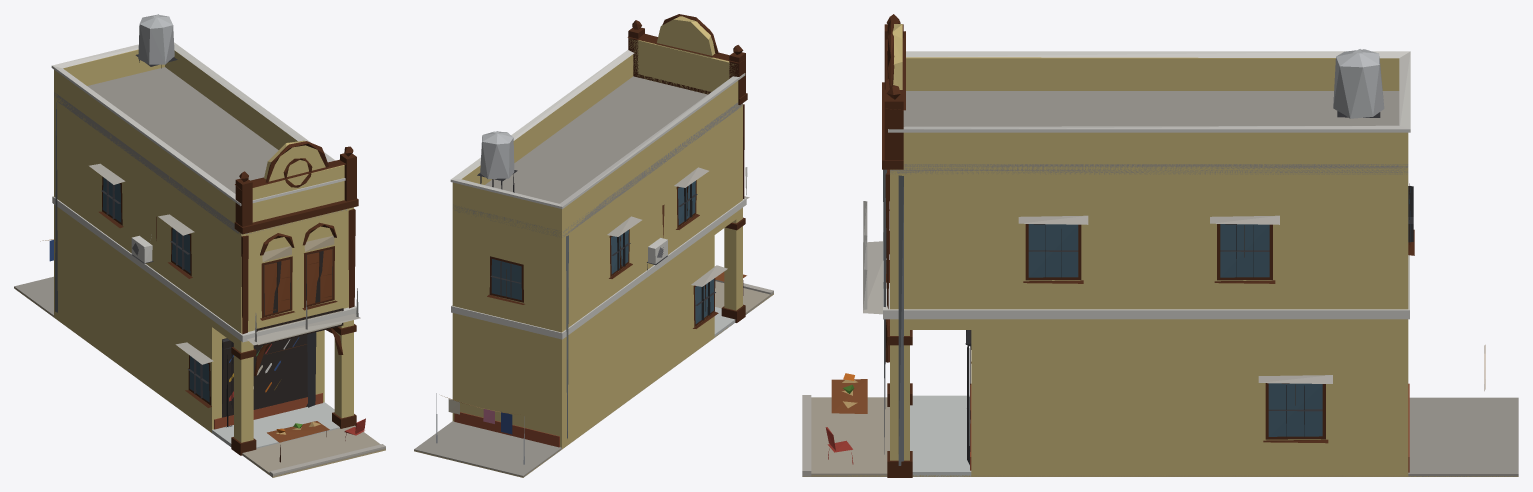
The model's file is bay1_one.glb.
The picture shows the model from 3 angles, left to right: view 1: azimuth 30°, elevation 25°; view 2: azimuth 150°, elevation 25°; view 3: azimuth 270°, elevation 25°; orthographic projection. The views are drawn at different scales.
Visible parts, largest first — view 1: body, windows; view 2: body, windows; view 3: body, windows.
Part boxes in pixels (x1,y1,x2,y2): body: [14, 14, 385, 477]; windows: [102, 177, 332, 417]; body: [414, 14, 773, 477]; windows: [491, 181, 714, 323]; body: [802, 14, 1518, 477]; windows: [970, 187, 1410, 451].
Size of the model in its own units: 4.84 by 10.11 by 15.9.
